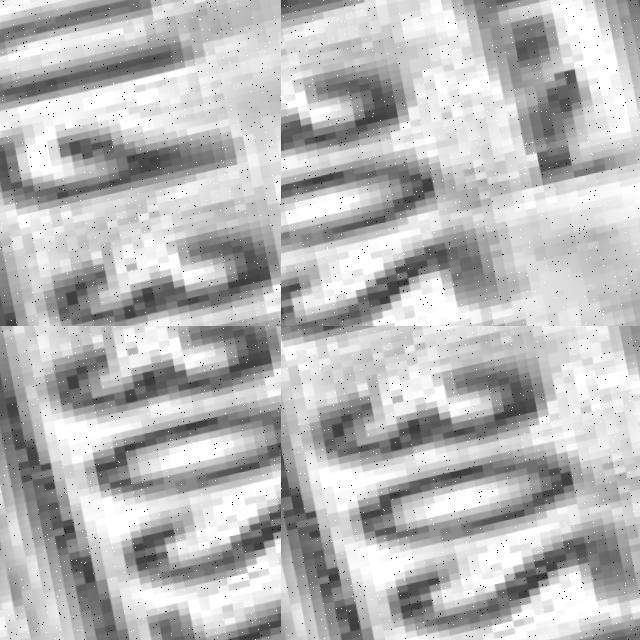license-plate: (281, 326, 640, 640), (281, 0, 566, 326), (0, 0, 281, 326), (0, 326, 281, 640)
